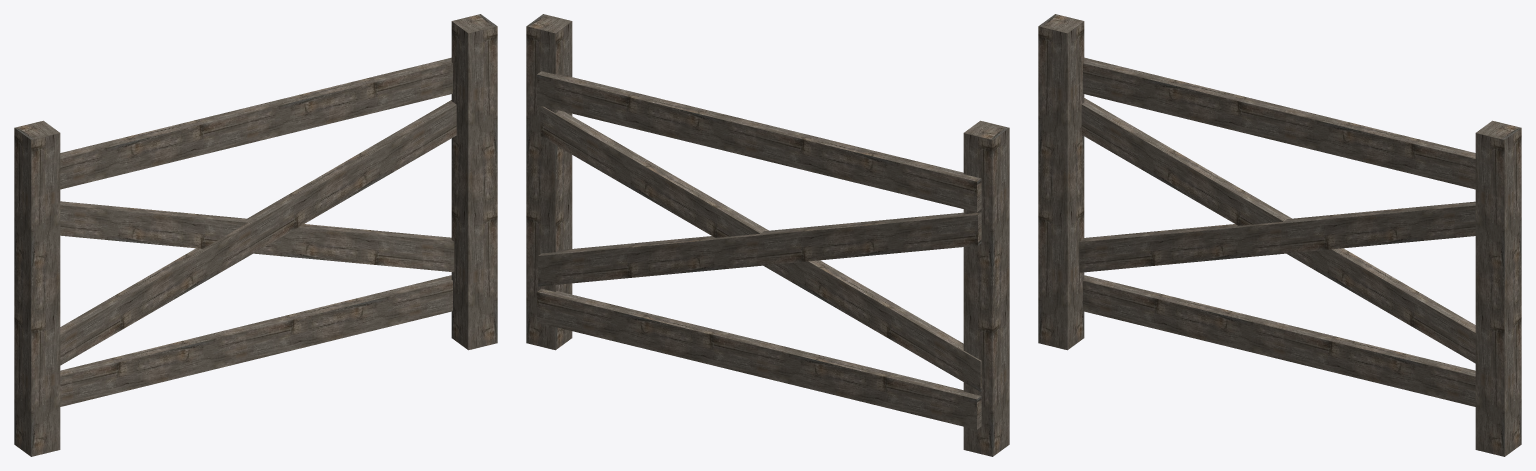
Rendered from fance.glb.
3 renders of one model, left to right at view 1: azimuth 30°, elevation 25°; view 2: azimuth 150°, elevation 25°; view 3: azimuth 330°, elevation 25°, orthographic.
Parts seen in each view (by area): view 1: V3; view 2: V3; view 3: V3.
Boxes of the visible parts, left/top/right/bottom form: V3: left=14, top=14, right=497, bottom=456; V3: left=526, top=14, right=1009, bottom=456; V3: left=1038, top=14, right=1521, bottom=456.
Bounding box in the file's own units: 3.64 × 2.37 × 0.2909.
1 material, 1 textured.
